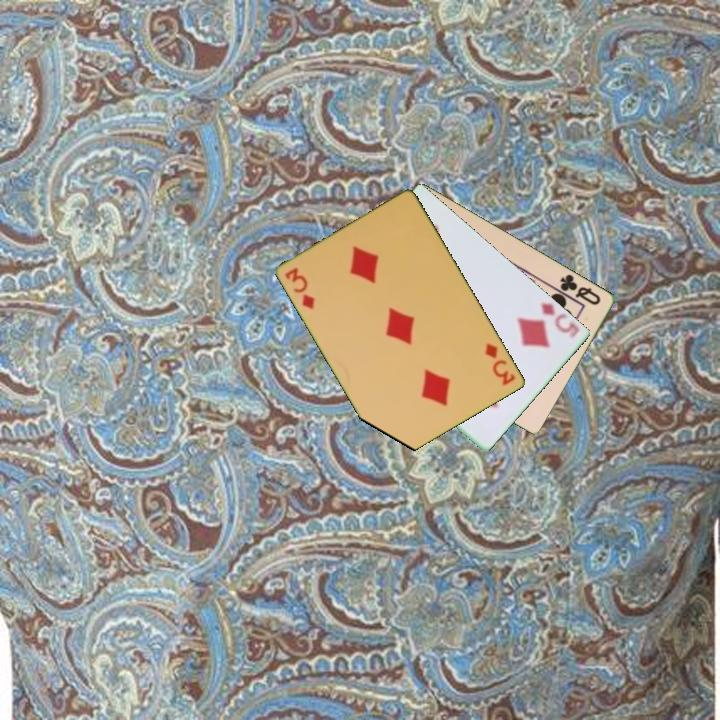3d: (281, 264, 318, 313), (482, 340, 519, 388)
5d: (537, 299, 583, 338)
Qc: (557, 270, 604, 308)
